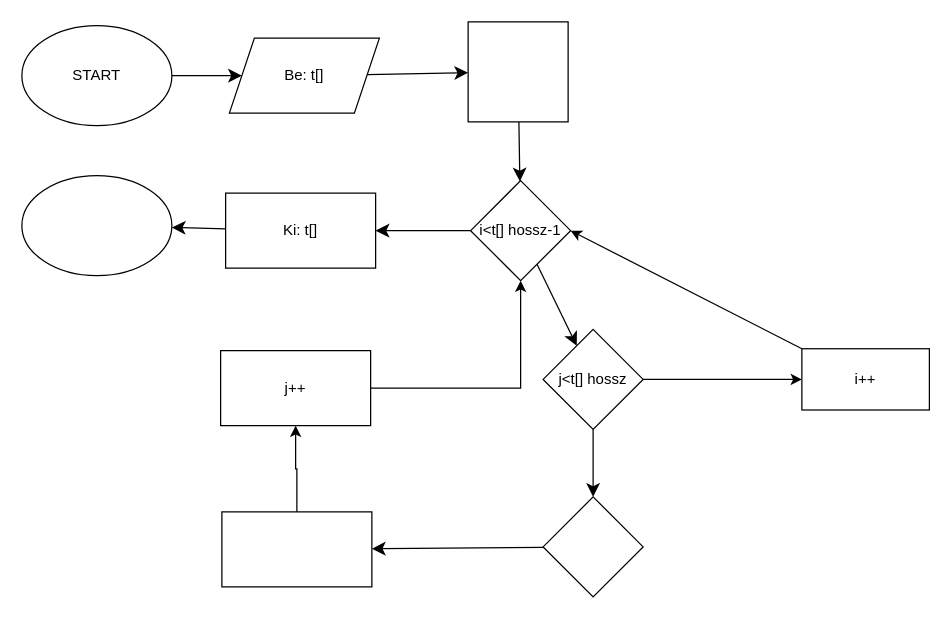
This 951x619 diagram has some shape labels left out. The centre of each missing label's shape, as x and y in pixels:
"csere = 0 i = 0 j = 0" belongs at pixel 517 71.
"csere =t[i] t[i] = t[j] t[j] = csere" belongs at pixel 296 549.
"END" belongs at pixel 96 225.
"t[i]<t[j]" belongs at pixel 592 546.
